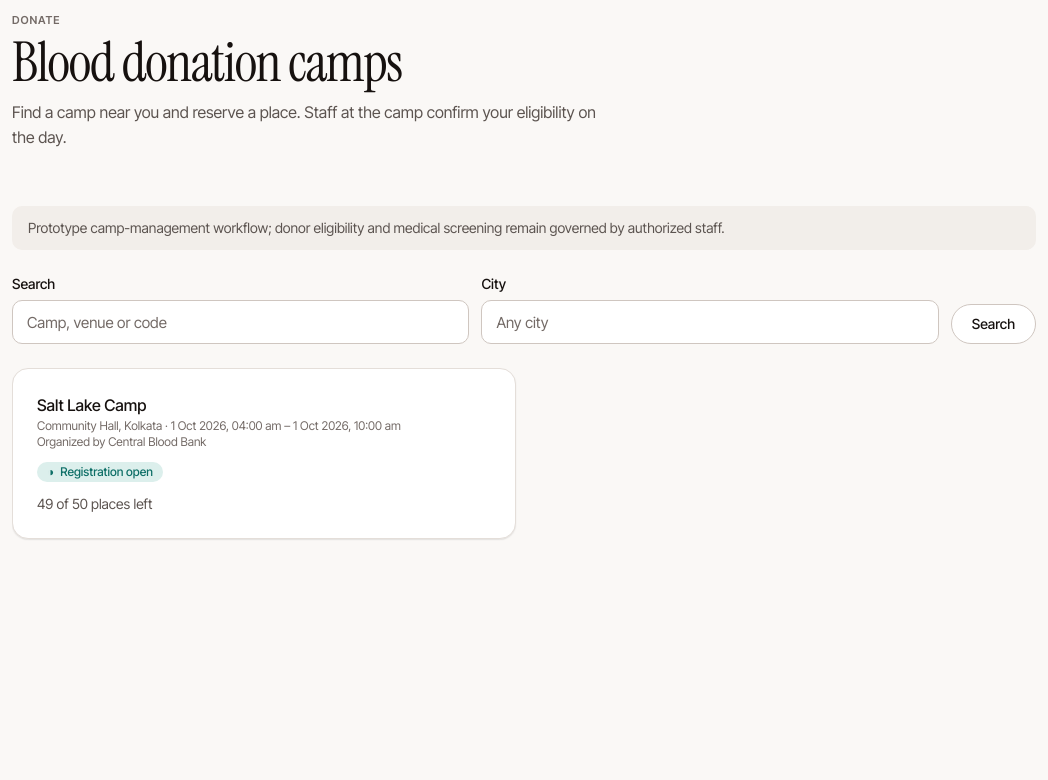
Test case: donor camps › searches, shows empty results, and hides actions for read-only viewers
The width and height of the screenshot is (1048, 780).
Expected: the link "Salt Lake Camp" is shown, [37, 395, 146, 415]
Type "howrah" into the field labelled "Search".
click(241, 322); type("howrah")  # box [12, 300, 469, 344]
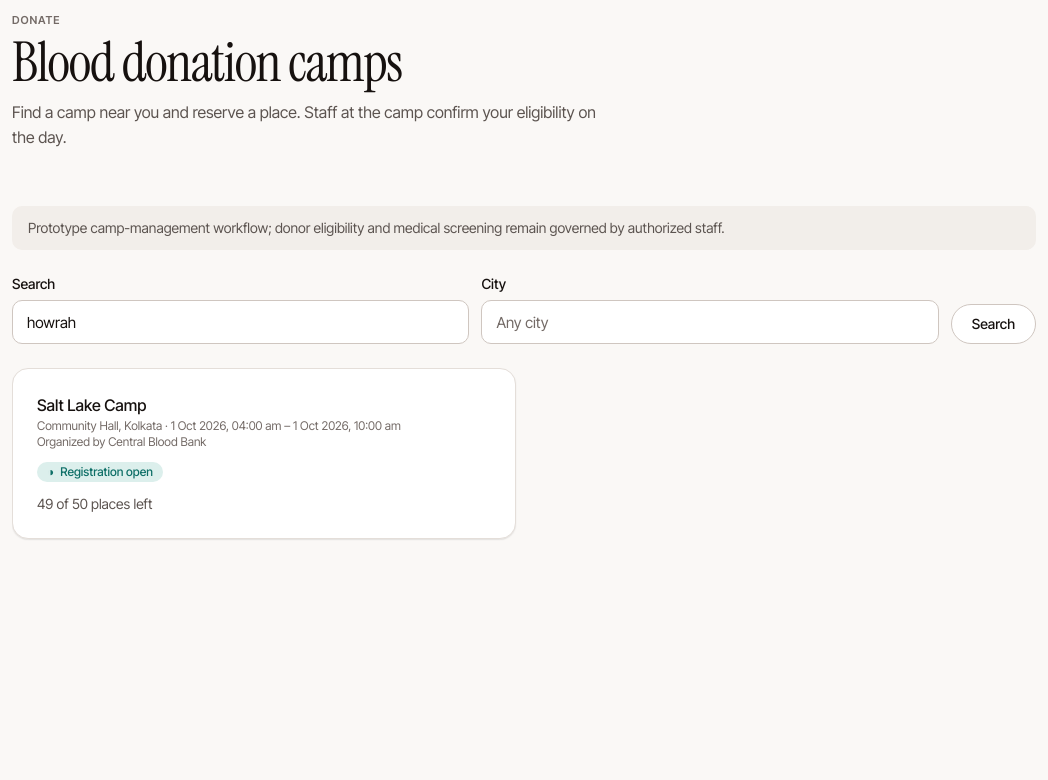
Click the button "Search".
click(993, 324)  # box [951, 304, 1036, 344]
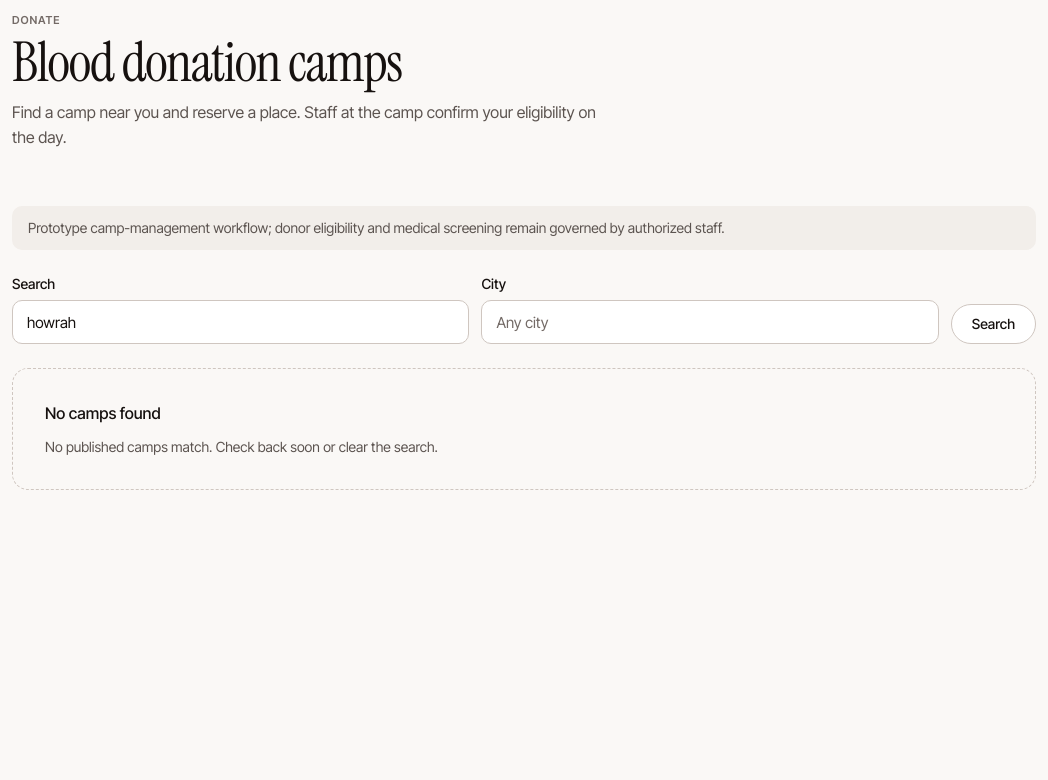
Now the text "No camps found" is shown, box [45, 401, 161, 425]
